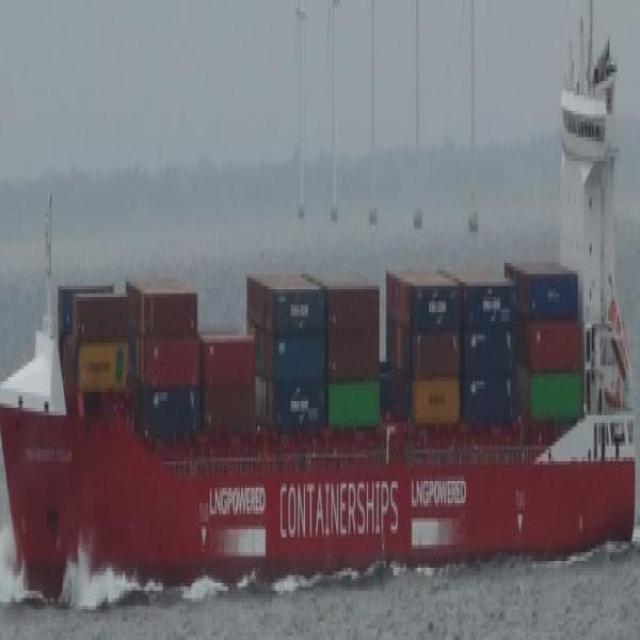Container Ship: (4, 5, 637, 600)
